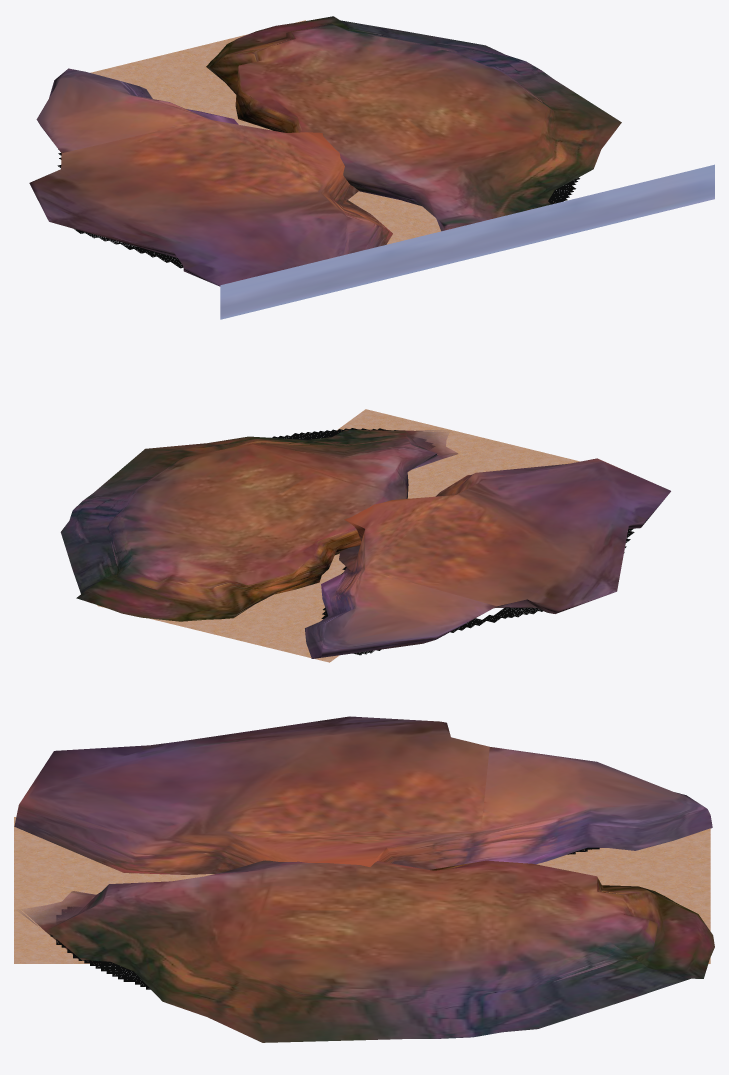
Rendered from slingshot_desert.glb.
The picture shows the model from 3 angles, top to bottom: view 1: azimuth 30°, elevation 25°; view 2: azimuth 150°, elevation 25°; view 3: azimuth 270°, elevation 25°; orthographic projection. The views are drawn at different scales.
Parts seen in each view (by area): view 1: mount_c, mount_b, backdrop_layer1, sand_layer1, mount_b_shadow; view 2: mount_c, mount_b, sand_layer1, mount_b_shadow, mount_c_shadow; view 3: mount_c, mount_b, sand_layer1, mount_c_shadow.
Part boxes in pixels (<box>): mount_c: <box>206,16,621,231</box>; mount_b: <box>29,68,392,286</box>; backdrop_layer1: <box>220,164,714,319</box>; sand_layer1: <box>90,20,440,244</box>; mount_b_shadow: <box>57,149,183,268</box>; mount_c: <box>60,429,457,621</box>; mount_b: <box>305,458,670,658</box>; sand_layer1: <box>97,409,580,662</box>; mount_b_shadow: <box>321,528,634,655</box>; mount_c_shadow: <box>272,428,434,447</box>; mount_c: <box>20,860,714,1042</box>; mount_b: <box>14,716,712,874</box>; sand_layer1: <box>14,817,710,963</box>; mount_c_shadow: <box>50,907,150,989</box>.
Bounding box in the file's own units: 364 × 20.07 × 302.
Materials: 9 (9 with a texture image).
